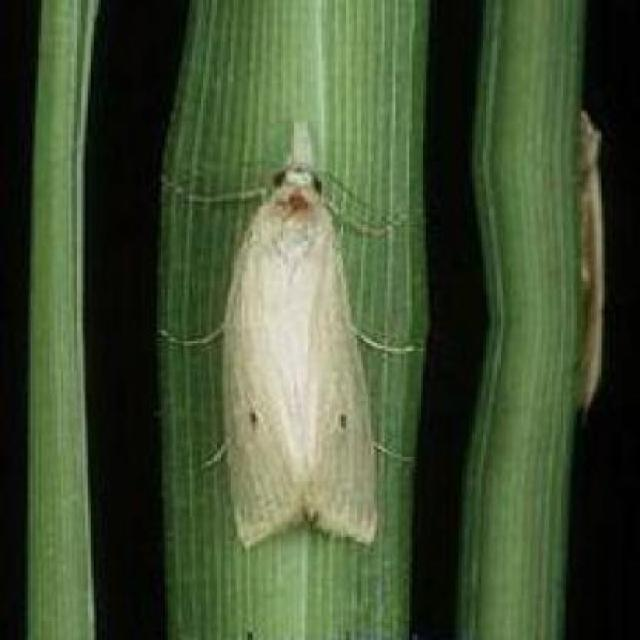stem-borer: (171, 116, 406, 550)
